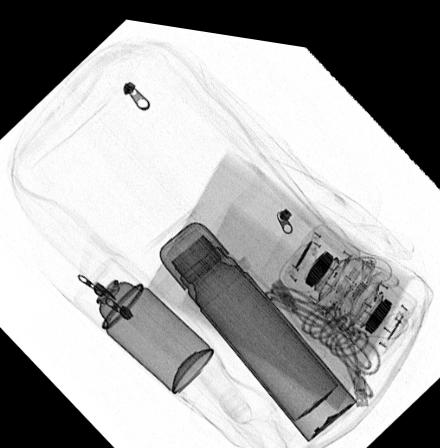Sprayer: (71, 253, 214, 388)
